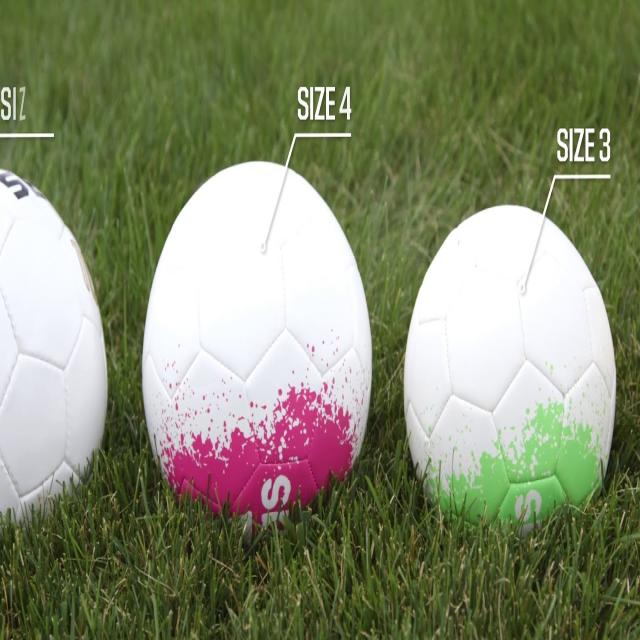soccer ball: (142, 159, 372, 533), (403, 204, 617, 542)
